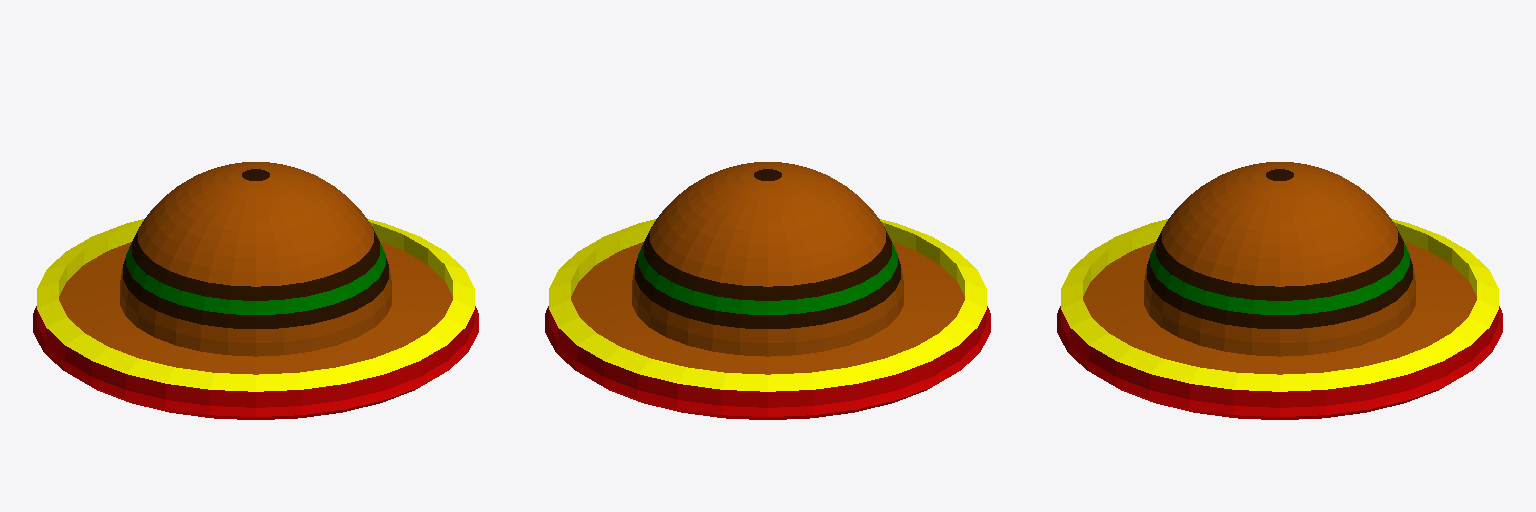
File: hat.obj
3 views of the same model, side by side, from view 1: azimuth 30°, elevation 25°; view 2: azimuth 150°, elevation 25°; view 3: azimuth 270°, elevation 25° (orthographic).
Parts seen in each view (by area): view 1: pSphere1; view 2: pSphere1; view 3: pSphere1.
Boxes of the visible parts, x1=… form: pSphere1: x1=33, y1=162, x2=478, y2=419; pSphere1: x1=545, y1=162, x2=990, y2=419; pSphere1: x1=1057, y1=162, x2=1502, y2=419.
Size of the model in its own units: 6.06 by 2.44 by 6.03.